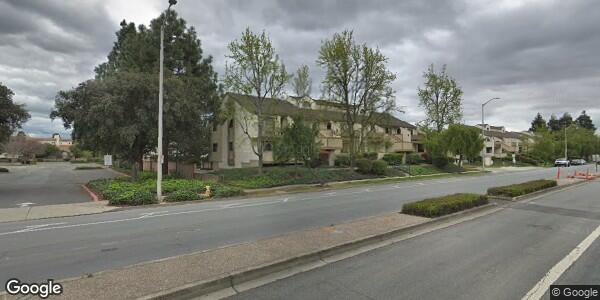Steel_Pole: (149, 1, 180, 206), (480, 94, 503, 174)
